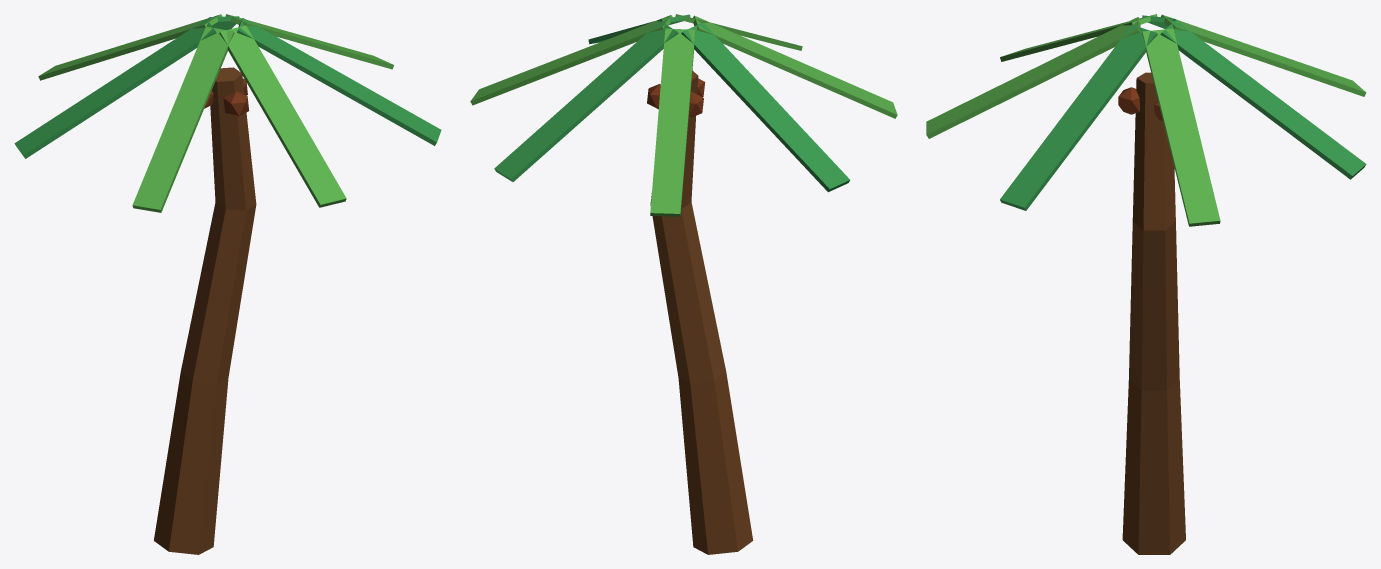
The model's file is palm_tree.fbx.
The picture shows the model from 3 angles, left to right: view 1: azimuth 30°, elevation 25°; view 2: azimuth 150°, elevation 25°; view 3: azimuth 270°, elevation 25°; orthographic projection. The views are drawn at different scales.
Visible parts, largest first — view 1: palm_tree; view 2: palm_tree; view 3: palm_tree.
Boxes of the visible parts, bbox=[...] form: palm_tree: bbox=[14, 14, 441, 554]; palm_tree: bbox=[470, 14, 897, 554]; palm_tree: bbox=[926, 14, 1366, 554].
Size of the model in its own units: 3.55 by 4.7 by 3.46.
